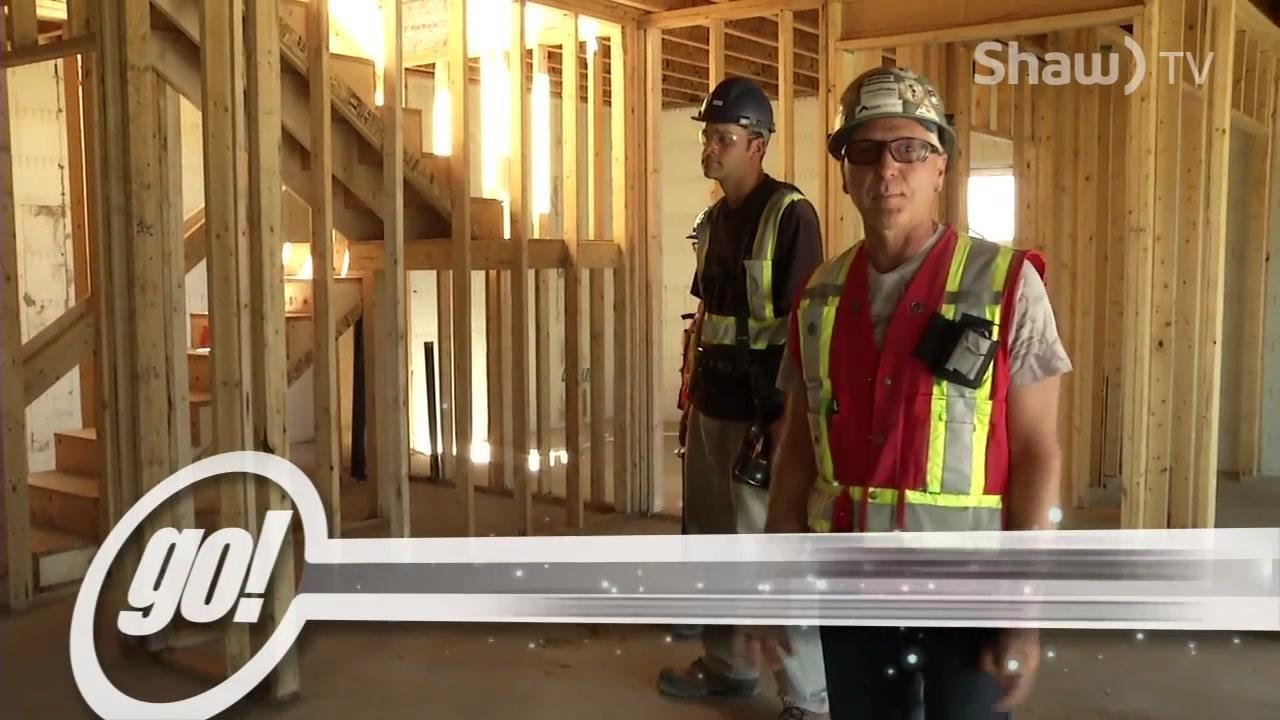vest: (795, 220, 1048, 532), (693, 185, 813, 349)
